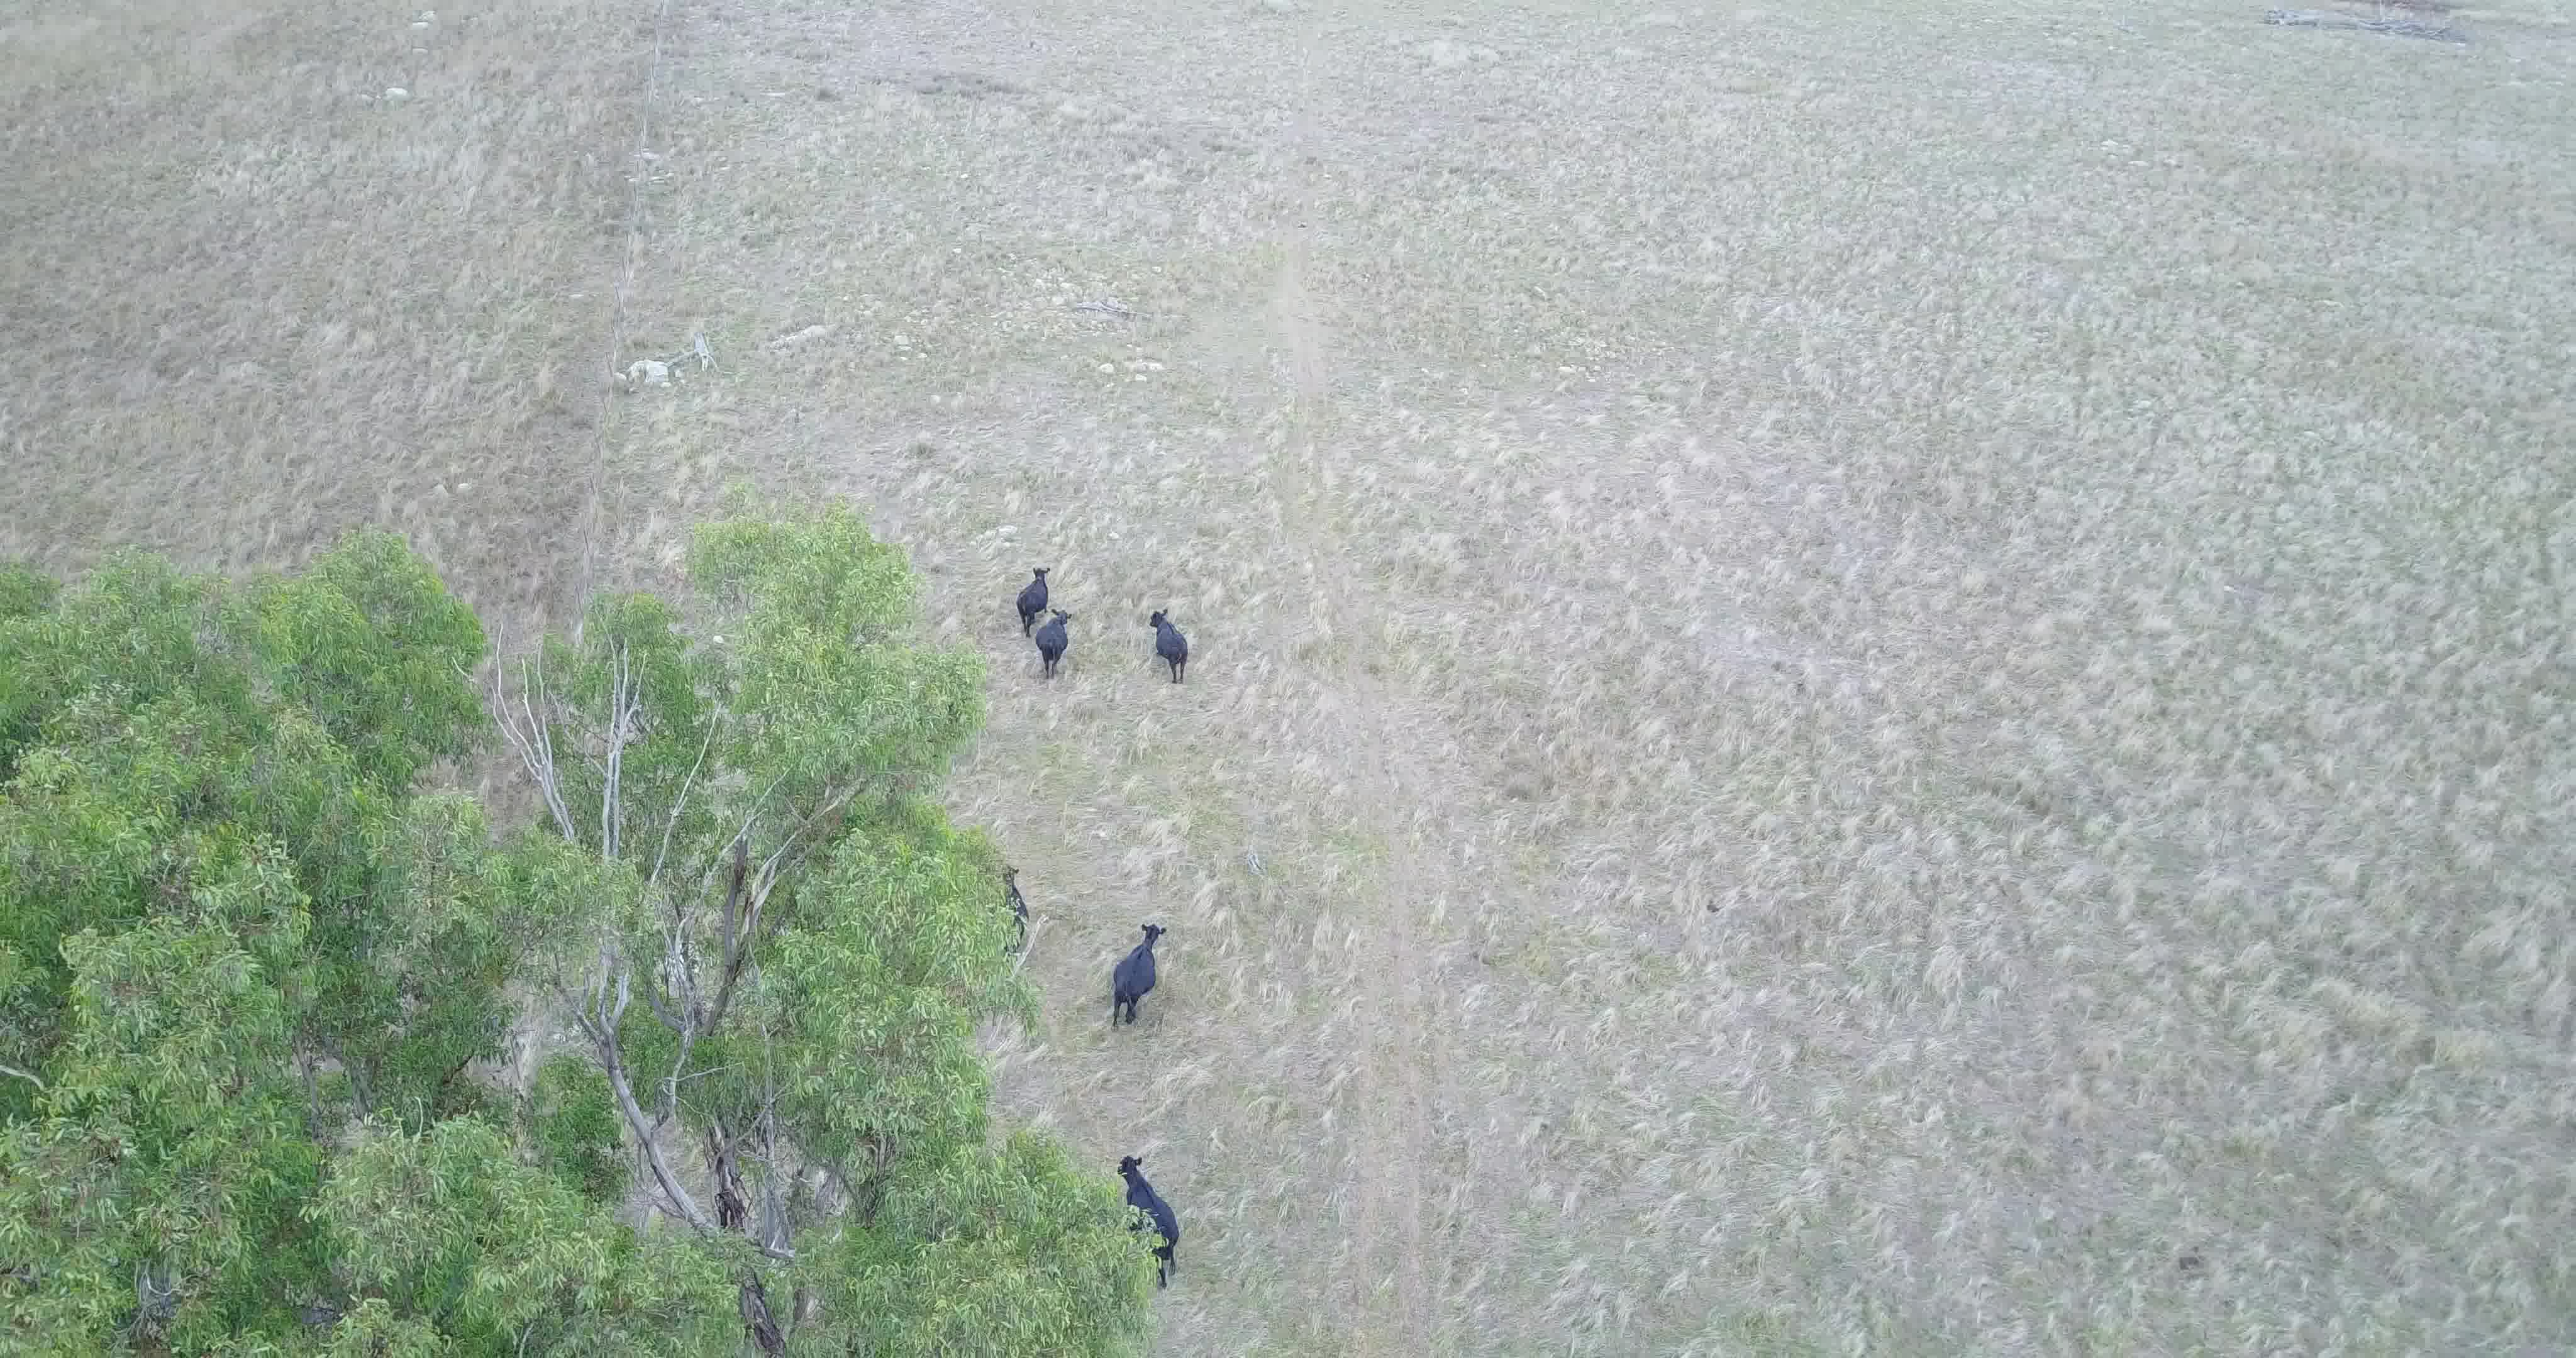cattle: (1106, 1150, 1181, 1293), (1106, 918, 1170, 1027), (988, 855, 1048, 964), (1145, 605, 1193, 687), (1034, 608, 1077, 678), (1017, 564, 1049, 634)
